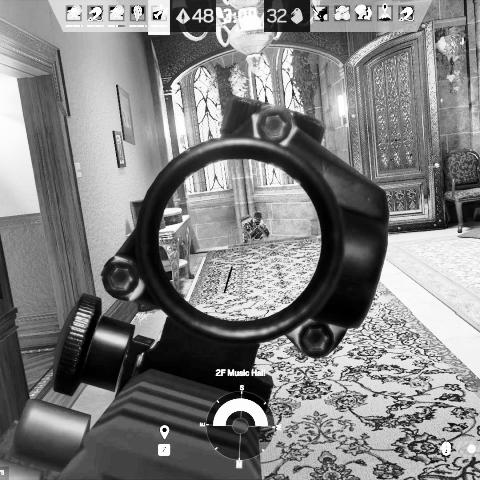Character: (239, 210, 272, 244)
Head: (252, 212, 265, 226)
